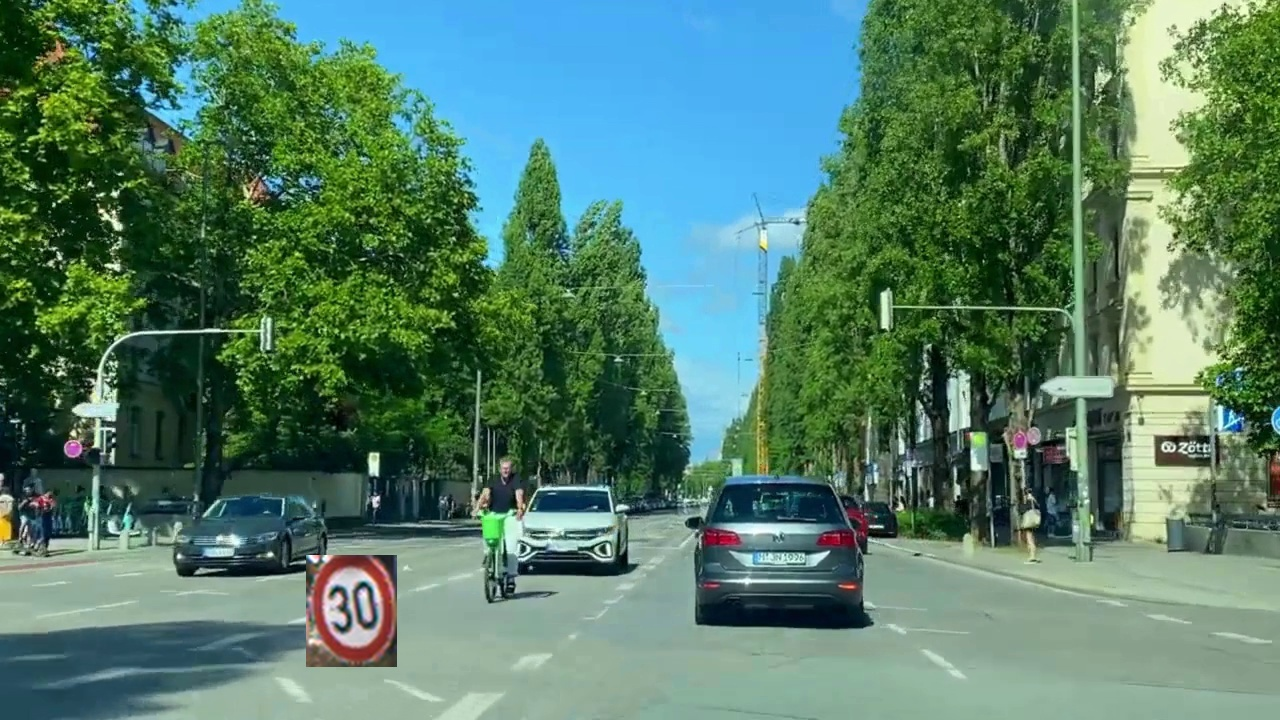Speed 30: (306, 555, 397, 667)
